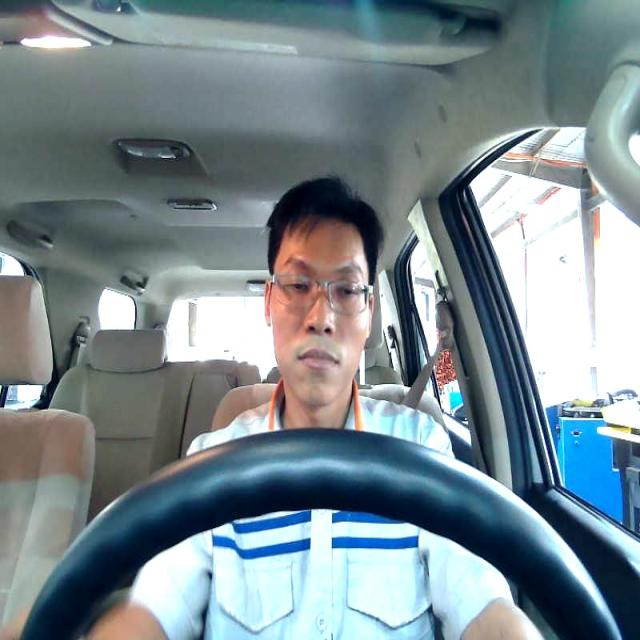focused: (263, 218, 374, 401)
